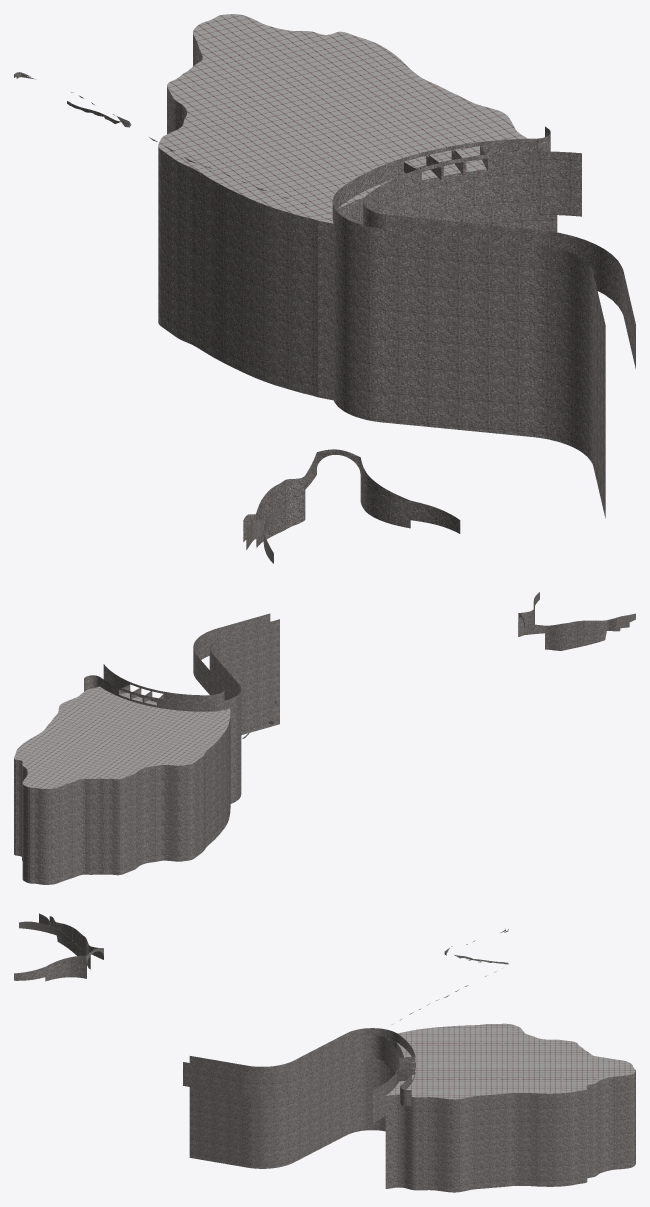
3 renders of one model, top to bottom at view 1: azimuth 30°, elevation 25°; view 2: azimuth 150°, elevation 25°; view 3: azimuth 270°, elevation 25°, orthographic. The views are drawn at different scales.
Parts seen in each view (by area): view 1: LXZ81003, _9101cd0186; view 2: LXZ81003, _9101cd0186; view 3: LXZ81003, _9101cd0186.
Part boxes in pixels (x1,y1,x2,y2): LXZ81003: (14, 34, 635, 563); _9101cd0186: (158, 14, 526, 223); LXZ81003: (14, 592, 635, 884); _9101cd0186: (14, 686, 230, 788); LXZ81003: (14, 913, 635, 1192); _9101cd0186: (386, 1023, 635, 1099).
Bounding box in the file's own units: 248 × 389 × 107.
2 materials, 2 textured.
